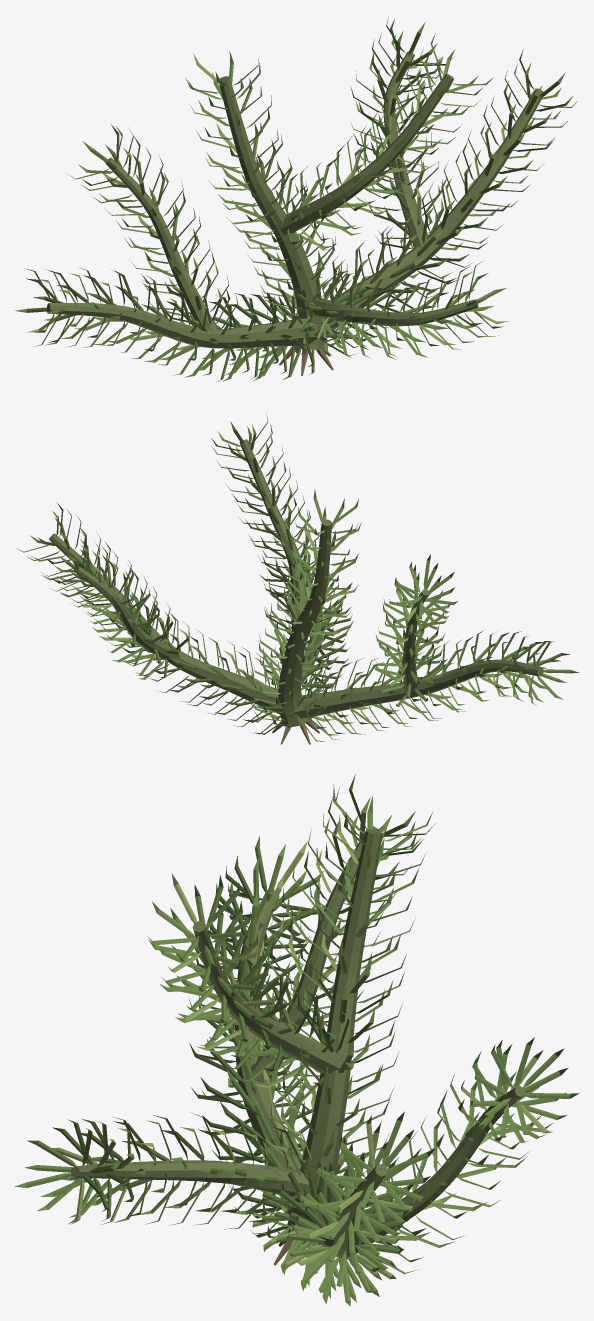
The picture shows the model from 3 angles, top to bottom: view 1: azimuth 30°, elevation 25°; view 2: azimuth 150°, elevation 25°; view 3: azimuth 270°, elevation 25°; orthographic projection. The views are drawn at different scales.
Visible parts, largest first — view 1: baragwanathia_leaf_editable, baragwanathia_axis_editable, baragwanathia_leaf_light_editable; view 2: baragwanathia_leaf_editable, baragwanathia_axis_editable, baragwanathia_leaf_light_editable; view 3: baragwanathia_leaf_editable, baragwanathia_axis_editable, baragwanathia_leaf_light_editable.
Part boxes in pixels (x1,y1,x2,y2): baragwanathia_leaf_editable: [14, 16, 577, 381]; baragwanathia_axis_editable: [47, 51, 543, 349]; baragwanathia_leaf_light_editable: [25, 38, 567, 375]; baragwanathia_leaf_editable: [16, 421, 579, 741]; baragwanathia_axis_editable: [49, 439, 543, 727]; baragwanathia_leaf_light_editable: [51, 413, 560, 728]; baragwanathia_leaf_editable: [14, 774, 579, 1306]; baragwanathia_axis_editable: [70, 826, 525, 1258]; baragwanathia_leaf_light_editable: [52, 796, 552, 1280].
Size of the model in its own units: 0.8364 by 0.4379 by 0.5045.
